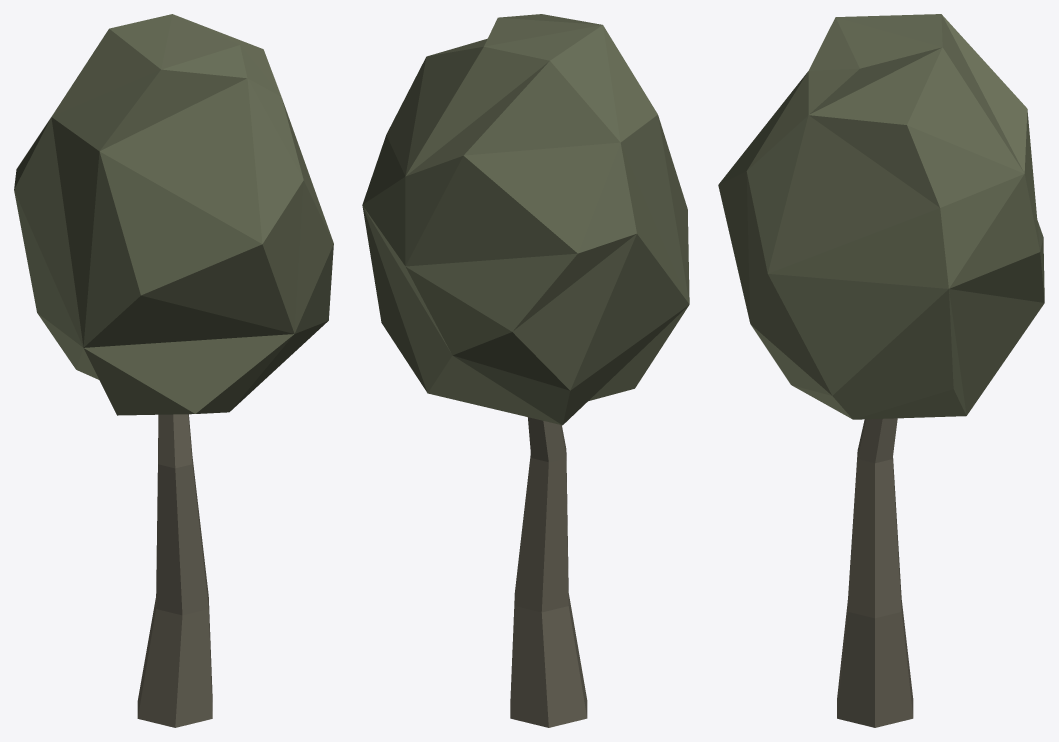
Rendered from LP_Tree_01.fbx.
3 renders of one model, left to right at view 1: azimuth 30°, elevation 25°; view 2: azimuth 150°, elevation 25°; view 3: azimuth 270°, elevation 25°, orthographic. The views are drawn at different scales.
Visible parts, largest first — view 1: LP_Tree_01; view 2: LP_Tree_01; view 3: LP_Tree_01.
Part boxes in pixels (bbox=[...]): LP_Tree_01: bbox=[14, 14, 333, 727]; LP_Tree_01: bbox=[362, 14, 689, 727]; LP_Tree_01: bbox=[718, 14, 1044, 727].
Size of the model in its own units: 15.15 by 35.73 by 15.59.
